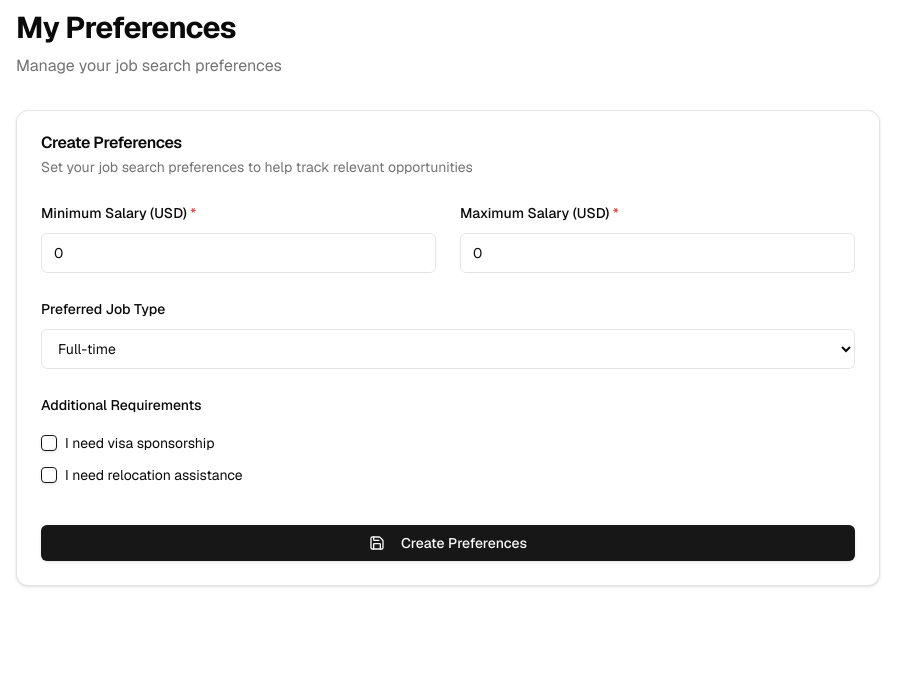
it: PreferencesPage Component › Form Validation › should show error when max salary is less than min salary
Replace the text in the number field labelled "Minimum Salary (USD) *" with "150000" at (238, 253), box [41,233,436,273]
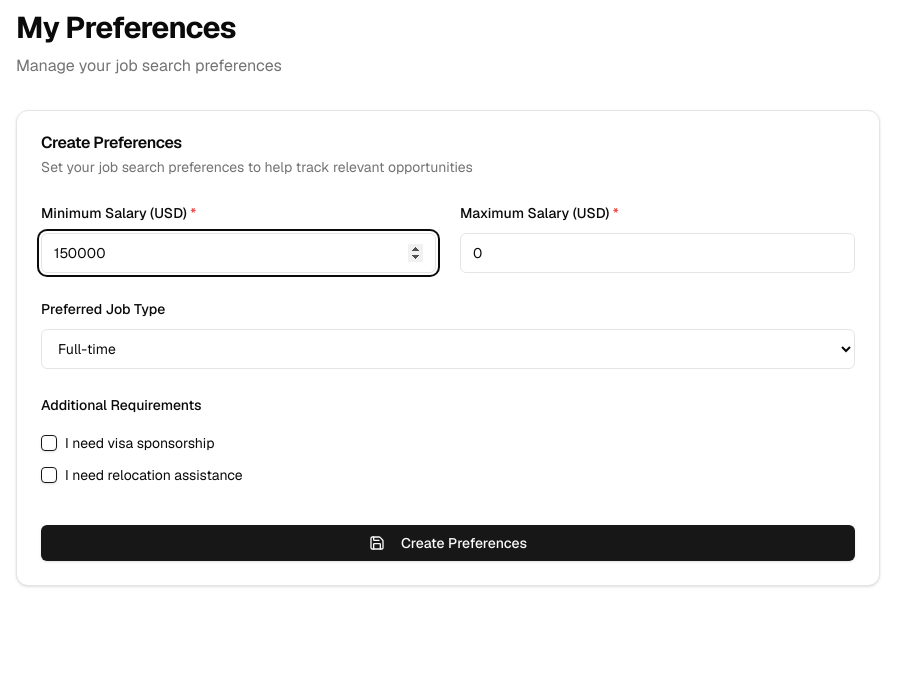
Replace the text in the number field labelled "Maximum Salary (USD) *" with "80000" at (658, 253), box [460,233,855,273]
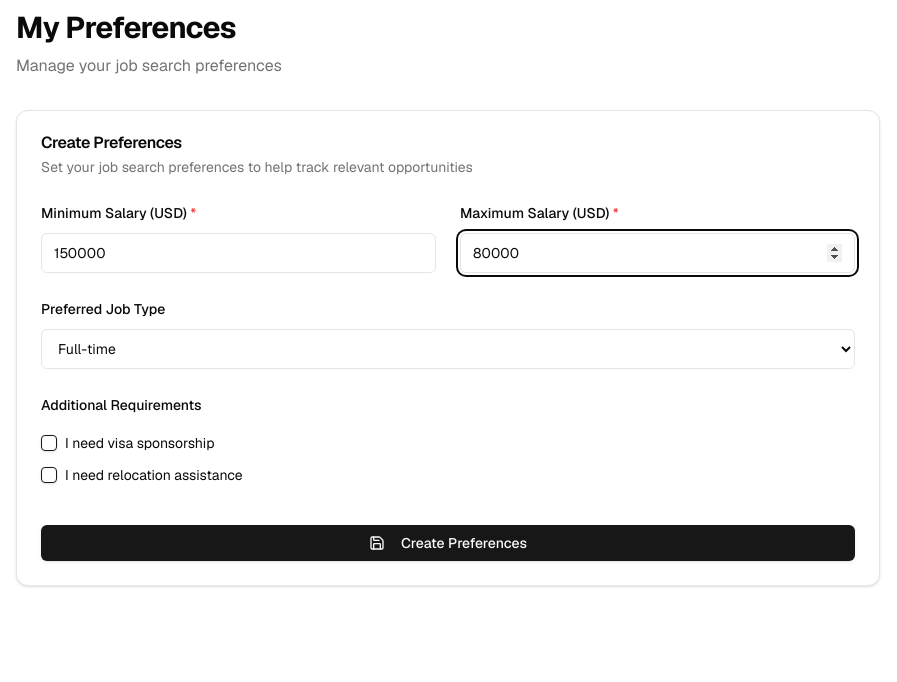
Click the button "Create Preferences" at (448, 543), box [41,525,855,561]
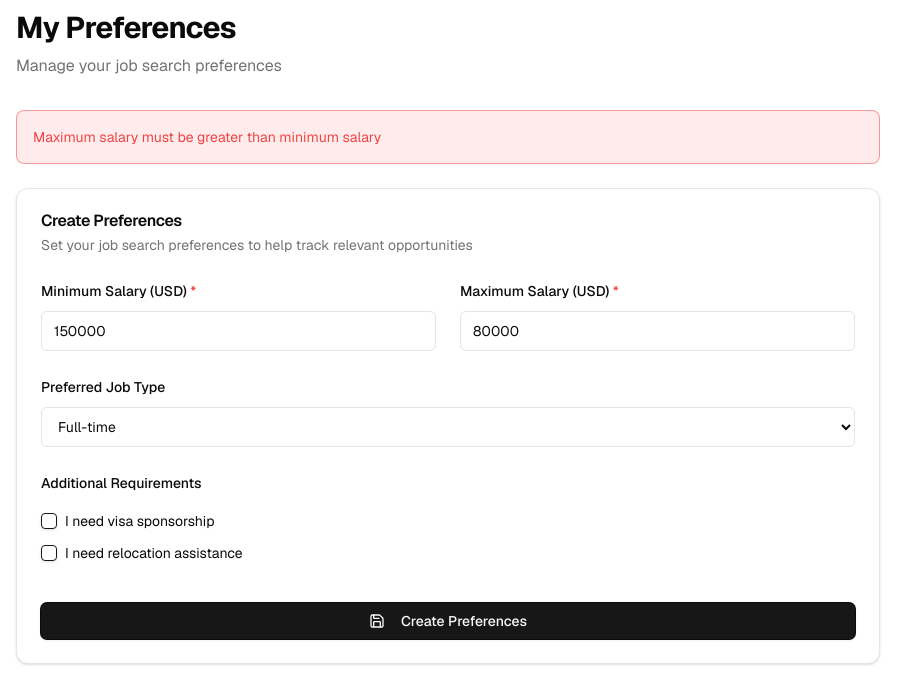
Check: the text "Maximum salary must be greater than minimum salary" is shown, box [33,128,381,146]
